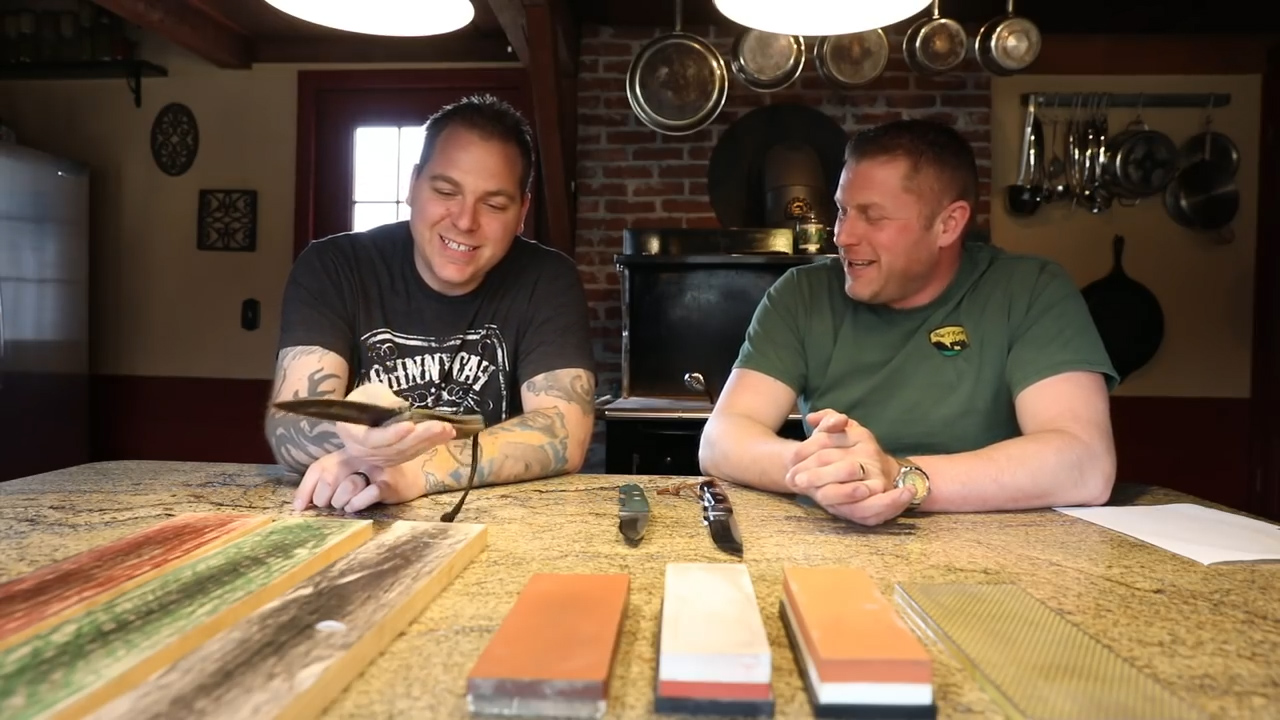knife: (245, 371, 425, 463)
